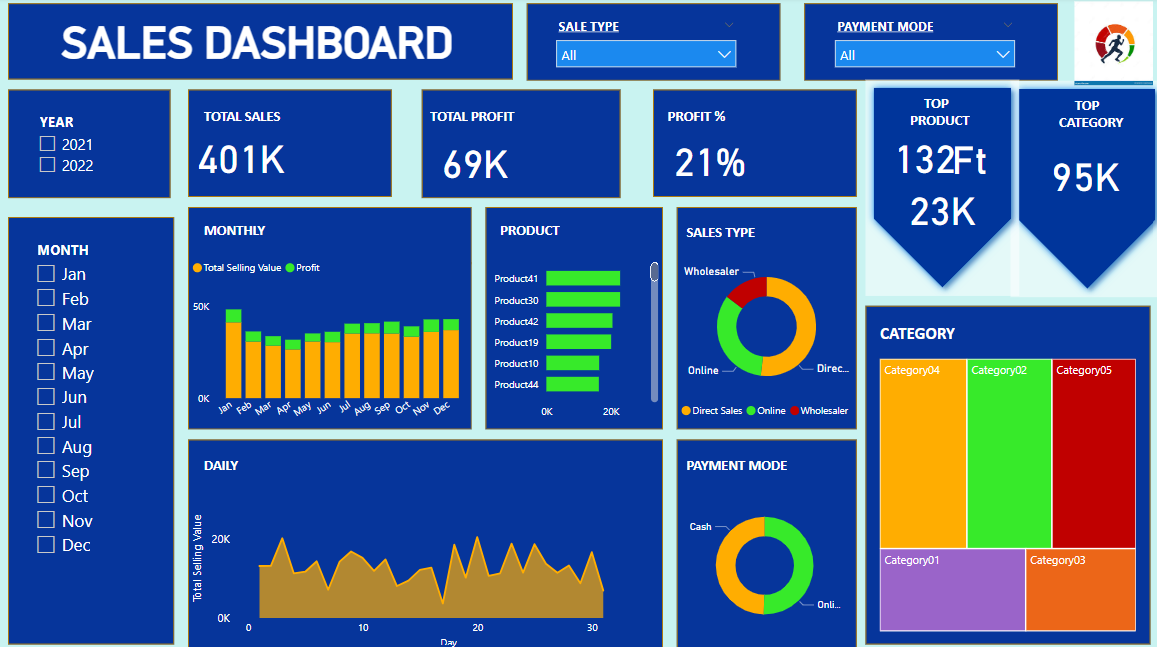

What the dashboard file says about the page in this screenshot:
{"tool":"powerbi","page":{"name":"Page 1","canvas":[1280,720],"ordinal":0},"visuals":[{"type":"shape","box":[208.6,231.9,311.5,120.8],"z":0},{"type":"shape","box":[745.1,485.8,197.6,234.6],"z":1000},{"type":"shape","box":[952.3,338.9,312.9,371.9],"z":2000},{"type":"shape","box":[208.6,485.8,521.4,234.6],"z":3000},{"type":"shape","box":[208.6,230.5,311.5,244.3],"z":4000},{"type":"shape","box":[745.1,230.5,197.6,244.3],"z":5000},{"type":"shape","box":[535.2,230.5,194.9,244.3],"z":6000},{"type":"shape","box":[11,6.9,554.4,83.7],"z":7000},{"type":"shape","box":[11,241.5,182.5,469.3],"z":8000},{"type":"shape","box":[11,101.5,178.4,119.4],"z":9000},{"type":"shape","box":[719,101.5,223.7,118],"z":10000},{"type":"shape","box":[465.2,101.5,218.2,119.4],"z":11000},{"type":"shape","box":[208.6,101.5,223.7,118],"z":12000},{"type":"shape","box":[580.4,6.9,278.6,85.1],"z":13000},{"type":"shape","box":[885.1,6.9,278.6,85.1],"z":14000},{"type":"shape","box":[1111.5,91.9,168.8,237.4],"z":15000},{"type":"shape","box":[952.3,90.6,168.8,237.4],"z":16000},{"type":"slicer","fields":{"Values":["InputData.Year"]},"box":[32.9,122.1,160.5,93.3],"z":17000},{"type":"slicer","fields":{"Values":["InputData.Month Name"]},"box":[30.2,262.1,159.2,439.1],"z":18000},{"type":"slicer","fields":{"Values":["InputData.SALE TYPE"]},"box":[602.4,17.8,218.2,74.1],"z":19000},{"type":"slicer","fields":{"Values":["InputData.PAYMENT MODE"]},"box":[908.4,17.8,218.2,74.1],"z":20000},{"type":"card","fields":{"Values":["Sum(InputData.Total Selling Value)"]},"box":[163.3,116.6,207.2,113.9],"z":21000},{"type":"card","fields":{"Values":["InputData.Profit %"]},"box":[677.9,120.8,207.2,113.9],"z":22000},{"type":"card","fields":{"Values":["InputData.Profit"]},"box":[419.9,122.1,207.2,113.9],"z":23000},{"type":"card","fields":{"Values":["Sum(InputData.Total Selling Value)"]},"box":[1107.4,138.6,172.9,111.1],"z":24000},{"type":"card","fields":{"Values":["Sum(InputData.QUANTITY)"]},"box":[913.9,116.6,207.2,113.9],"z":25000},{"type":"card","fields":{"Values":["Min(InputData.MasterData.UOM)"]},"box":[963.3,118,207.2,113.9],"z":26000},{"type":"card","fields":{"Values":["Sum(InputData.Total Selling Value)"]},"box":[933.1,174.3,207.2,113.9],"z":27000},{"type":"columnChart","fields":{"Category":["InputData.Month Name"],"Y":["Sum(InputData.Total Selling Value)","InputData.Profit"]},"box":[208.6,278.6,311.5,193.5],"z":28000},{"type":"clusteredBarChart","fields":{"Category":["InputData.MasterData.PRODUCT"],"Y":["Sum(InputData.Total Selling Value)"]},"box":[535.2,278.6,194.9,193.5],"z":29000},{"type":"areaChart","fields":{"Category":["InputData.Day"],"Y":["Sum(InputData.Total Selling Value)"]},"box":[208.6,537.9,521.4,182.5],"z":30000},{"type":"donutChart","fields":{"Y":["Sum(InputData.Total Selling Value)"],"Category":["InputData.SALE TYPE"]},"box":[745.1,278.6,197.6,193.5],"z":31000},{"type":"donutChart","fields":{"Y":["Sum(InputData.Total Selling Value)"],"Category":["InputData.PAYMENT MODE"]},"box":[750.6,537.9,182.5,172.9],"z":32000},{"type":"treemap","fields":{"Group":["InputData.MasterData.CATEGORY"],"Values":["Sum(InputData.Total Selling Value)"]},"box":[963.3,392.5,290.9,308.7],"z":33000},{"type":"textbox","box":[996.2,101.5,98.8,53.5],"z":34000},{"type":"textbox","box":[1159.5,101.5,105.7,72.7],"z":35000},{"type":"textbox","box":[220.9,116.6,145.5,38.4],"z":36000},{"type":"textbox","box":[469.3,116.6,148.2,38.4],"z":37000},{"type":"textbox","box":[730,116.6,101.5,38.4],"z":38000},{"type":"textbox","box":[64.5,17.8,481.6,72.7],"z":39000},{"type":"textbox","box":[220.9,241.5,178.4,37],"z":40000},{"type":"textbox","box":[546.1,241.5,146.8,37],"z":41000},{"type":"textbox","box":[750.6,241.5,140,37],"z":42000},{"type":"textbox","box":[220.9,496.7,223.7,41.2],"z":43000},{"type":"textbox","box":[750.6,496.7,182.5,41.2],"z":44000},{"type":"textbox","box":[963.3,352.7,148.2,39.8],"z":45000},{"type":"image","box":[1170.5,0,109.8,101.5],"z":45001}]}

Visuals, with their boxes in screenshot pixels (x1, y1, x2, y2), scaled from the page's 1280x720 canvas onto the 1157x647 screenshot:
shape: <region>189, 208, 470, 317</region>
shape: <region>674, 437, 852, 646</region>
shape: <region>861, 305, 1144, 639</region>
shape: <region>189, 437, 660, 646</region>
shape: <region>189, 207, 470, 427</region>
shape: <region>674, 207, 852, 427</region>
shape: <region>484, 207, 660, 427</region>
shape: <region>10, 6, 511, 81</region>
shape: <region>10, 217, 175, 639</region>
shape: <region>10, 91, 171, 199</region>
shape: <region>650, 91, 852, 197</region>
shape: <region>420, 91, 618, 199</region>
shape: <region>189, 91, 391, 197</region>
shape: <region>525, 6, 776, 83</region>
shape: <region>800, 6, 1052, 83</region>
shape: <region>1005, 83, 1156, 296</region>
shape: <region>861, 81, 1013, 295</region>
slicer - InputData.Year: <region>30, 110, 175, 194</region>
slicer - InputData.Month Name: <region>27, 236, 171, 630</region>
slicer - InputData.SALE TYPE: <region>545, 16, 742, 83</region>
slicer - InputData.PAYMENT MODE: <region>821, 16, 1018, 83</region>
card - Sum(InputData.Total Selling Value): <region>148, 105, 335, 207</region>
card - InputData.Profit %: <region>613, 109, 800, 211</region>
card - InputData.Profit: <region>380, 110, 567, 212</region>
card - Sum(InputData.Total Selling Value): <region>1001, 125, 1156, 224</region>
card - Sum(InputData.QUANTITY): <region>826, 105, 1013, 207</region>
card - Min(InputData.MasterData.UOM): <region>871, 106, 1058, 208</region>
card - Sum(InputData.Total Selling Value): <region>843, 157, 1031, 259</region>
columnChart - InputData.Month Name x Sum(InputData.Total Selling Value): <region>189, 250, 470, 424</region>
clusteredBarChart - InputData.MasterData.PRODUCT x Sum(InputData.Total Selling Value): <region>484, 250, 660, 424</region>
areaChart - InputData.Day x Sum(InputData.Total Selling Value): <region>189, 483, 660, 646</region>
donutChart - Sum(InputData.Total Selling Value) x InputData.SALE TYPE: <region>674, 250, 852, 424</region>
donutChart - Sum(InputData.Total Selling Value) x InputData.PAYMENT MODE: <region>678, 483, 843, 639</region>
treemap - InputData.MasterData.CATEGORY x Sum(InputData.Total Selling Value): <region>871, 353, 1134, 630</region>
textbox: <region>900, 91, 990, 139</region>
textbox: <region>1048, 91, 1144, 157</region>
textbox: <region>200, 105, 331, 139</region>
textbox: <region>424, 105, 558, 139</region>
textbox: <region>660, 105, 752, 139</region>
textbox: <region>58, 16, 494, 81</region>
textbox: <region>200, 217, 361, 250</region>
textbox: <region>494, 217, 626, 250</region>
textbox: <region>678, 217, 805, 250</region>
textbox: <region>200, 446, 402, 483</region>
textbox: <region>678, 446, 843, 483</region>
textbox: <region>871, 317, 1005, 353</region>
image: <region>1058, 0, 1156, 91</region>
